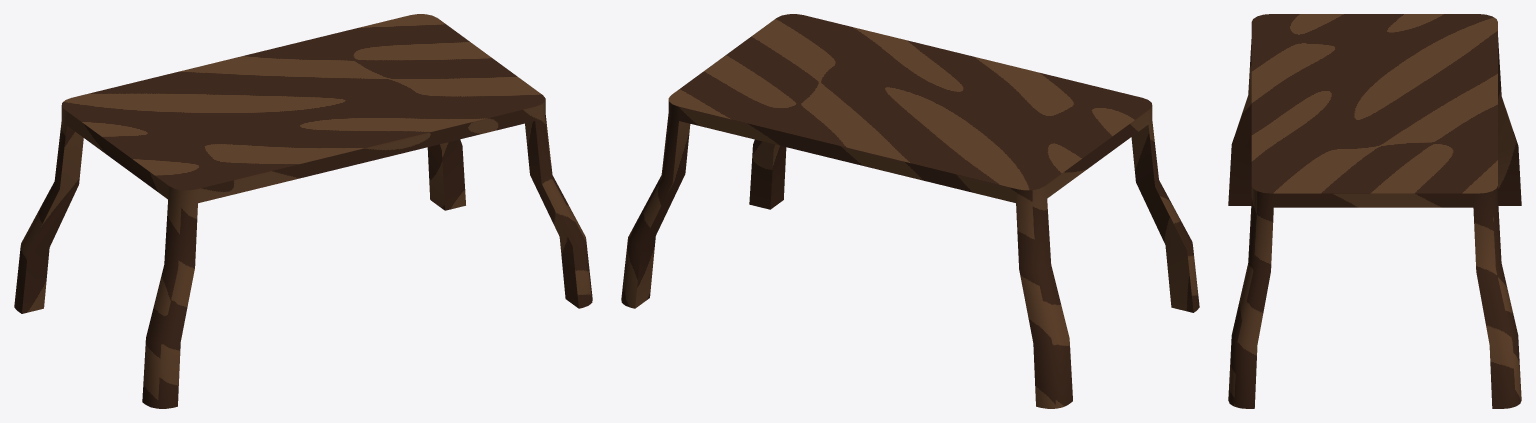
Rendered from table.fbx.
3 renders of one model, left to right at view 1: azimuth 30°, elevation 25°; view 2: azimuth 150°, elevation 25°; view 3: azimuth 270°, elevation 25°, orthographic.
Parts seen in each view (by area): view 1: Cube; view 2: Cube; view 3: Cube.
Boxes of the visible parts, bbox=[...] form: Cube: bbox=[14, 14, 592, 408]; Cube: bbox=[621, 14, 1199, 408]; Cube: bbox=[1228, 14, 1521, 408].
Size of the model in its own units: 620 by 268 by 359.
Materials: 1 (1 with a texture image).
